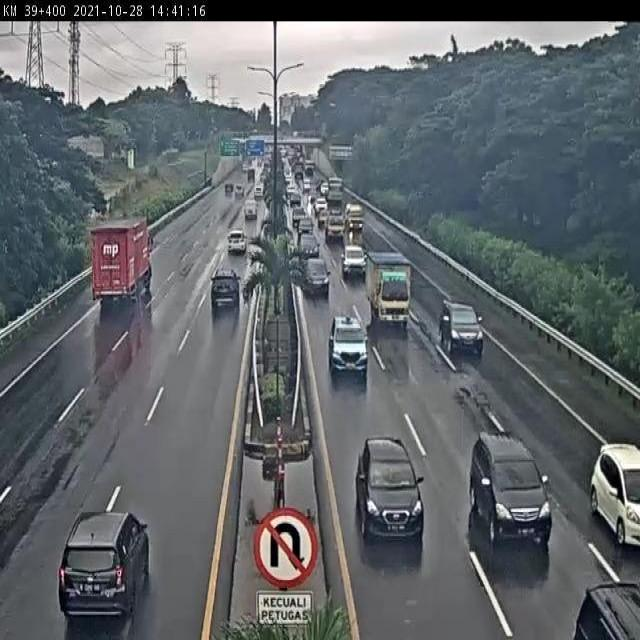car: (57, 508, 153, 624), (470, 429, 553, 544), (357, 439, 424, 548), (439, 300, 484, 359), (328, 315, 368, 377), (209, 268, 241, 312), (302, 254, 329, 294), (340, 244, 366, 280), (225, 229, 248, 256)
mid truck: (88, 220, 153, 309)
truck-m-: (366, 252, 412, 323)
